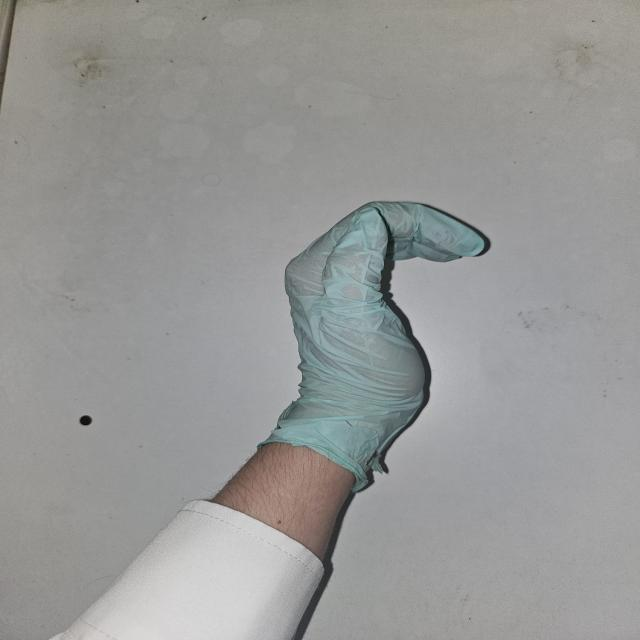gloves_damaged: (255, 199, 490, 493)
